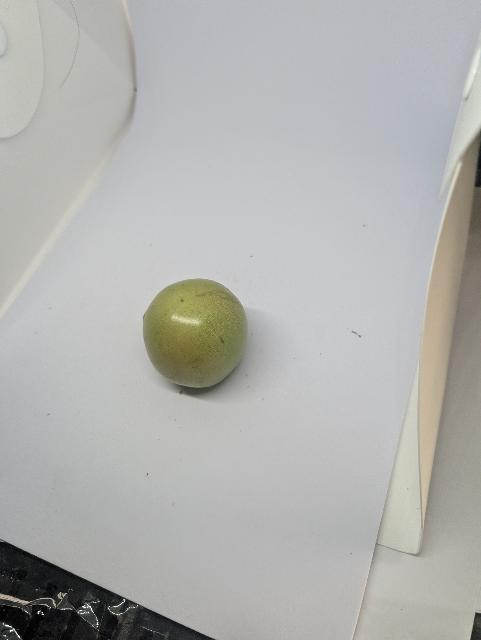green: (142, 277, 250, 388)
